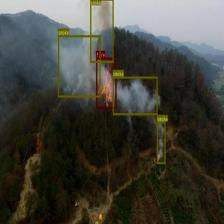fire: (96, 58, 116, 108)
smoke: (58, 35, 100, 97), (112, 76, 158, 115), (89, 0, 113, 62), (156, 122, 166, 164)
